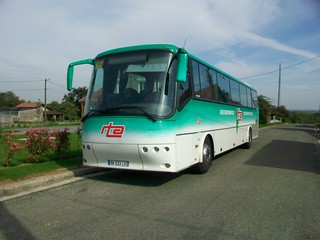bus: (67, 43, 260, 174)
